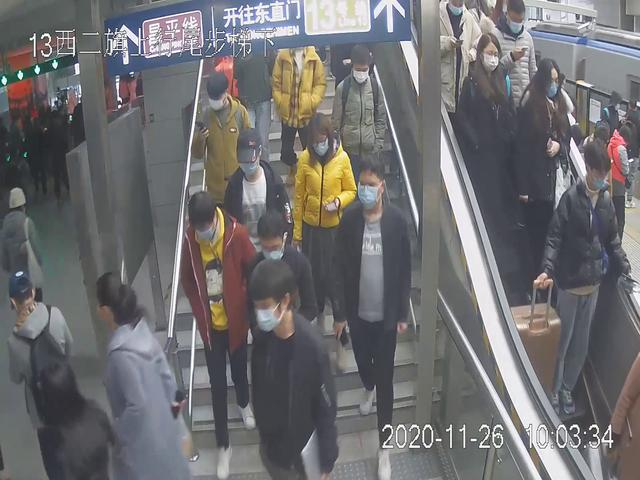person: (537, 136, 631, 425), (335, 152, 415, 480), (180, 192, 261, 480), (243, 259, 338, 480), (91, 264, 185, 480), (186, 68, 258, 287), (458, 34, 523, 268), (293, 110, 357, 342), (512, 53, 576, 281), (331, 40, 391, 234), (266, 33, 332, 184)
